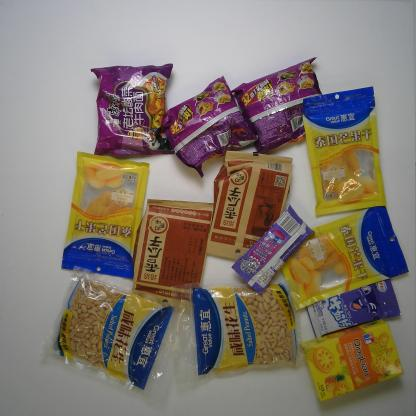Candy: (229, 200, 318, 298), (302, 273, 404, 341)
Dessert: (296, 317, 406, 405)
Dried Food: (204, 149, 296, 261), (129, 194, 217, 308)
Dried Fruit: (37, 262, 178, 398), (168, 278, 309, 384), (280, 204, 411, 312), (296, 82, 390, 216), (58, 148, 152, 282)
Instant Noodles: (149, 75, 262, 180), (231, 56, 336, 156), (86, 59, 177, 160)
